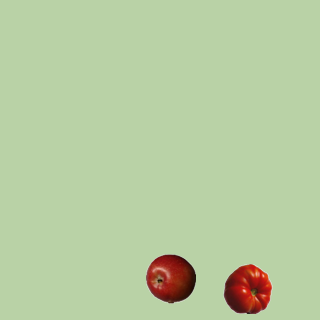Apple Braeburn: (145, 253, 195, 303)
Tomato 3: (222, 263, 272, 313)
